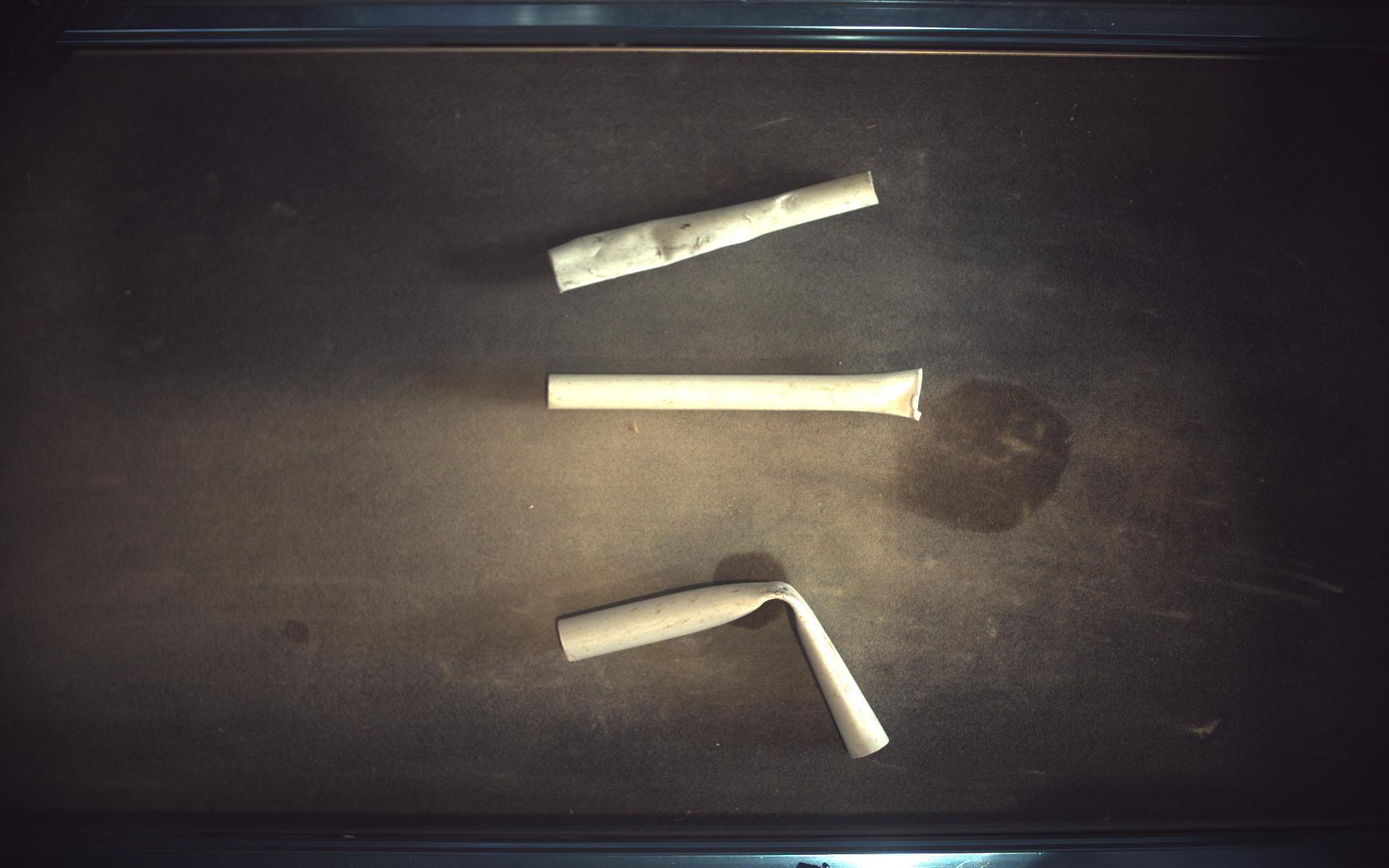pipes: (558, 582, 891, 759), (549, 171, 880, 292), (548, 368, 925, 420)
